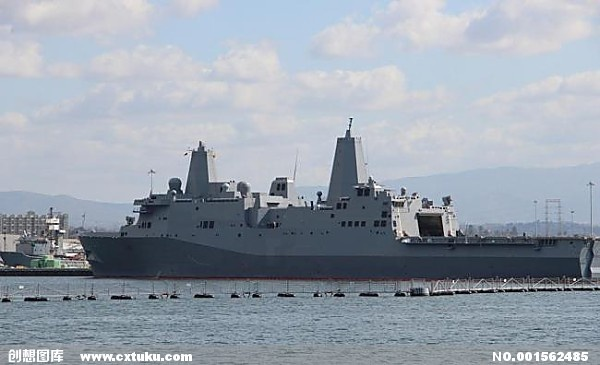warship: (69, 115, 600, 285)
